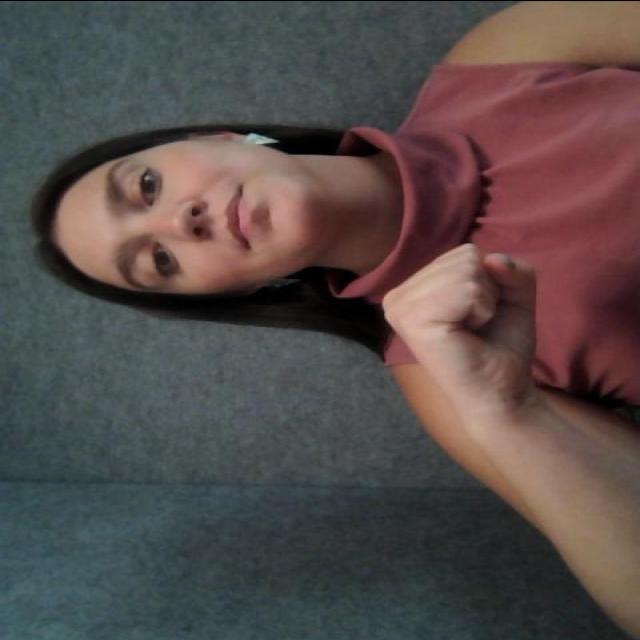Rock: (339, 159, 625, 491)
